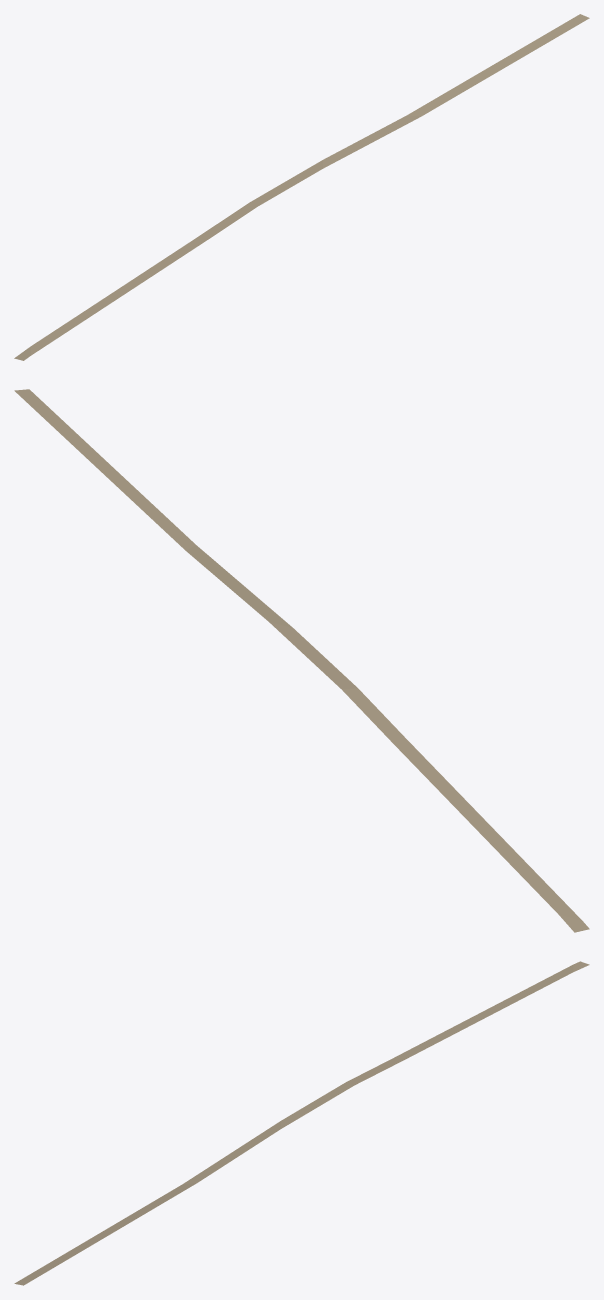
File: farm_-9_1_track.glb
3 views of the same model, one above another, from view 1: azimuth 90°, elevation 25°; view 2: azimuth 150°, elevation 25°; view 3: azimuth 270°, elevation 25° (orthographic). The views are drawn at different scales.
Parts seen in each view (by area): view 1: geometry_0; view 2: geometry_0; view 3: geometry_0.
Boxes of the visible parts, <box> form: geometry_0: <box>14,14,589,360</box>; geometry_0: <box>14,389,589,932</box>; geometry_0: <box>14,961,589,1285</box>.
Bounding box in the file's own units: 217 × 5.31 × 158.
